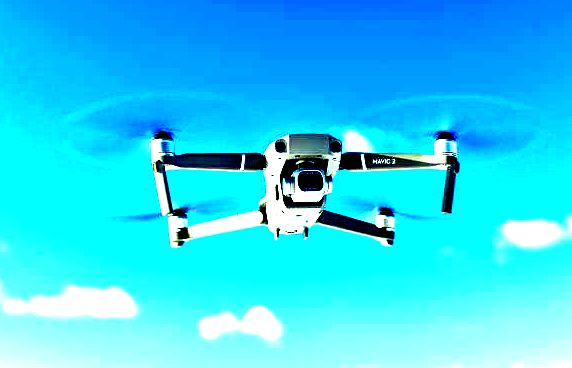Drone: (68, 85, 540, 251)
